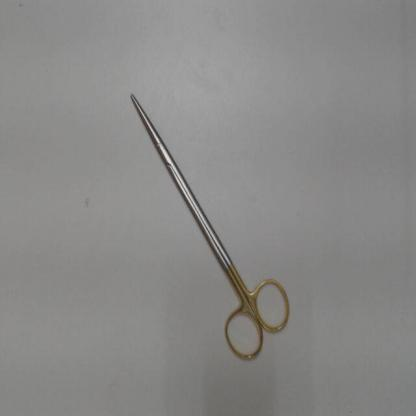7 Metzenbaum Scissors: (127, 85, 296, 366)
